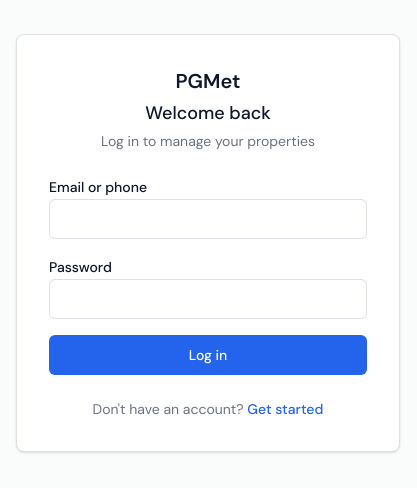
LoginPage › shows an error message on invalid credentials
Type "owner@example.com" into the field labelled "Email or phone". click: point(208, 219)
box: x1=49 y1=199 x2=367 y2=239
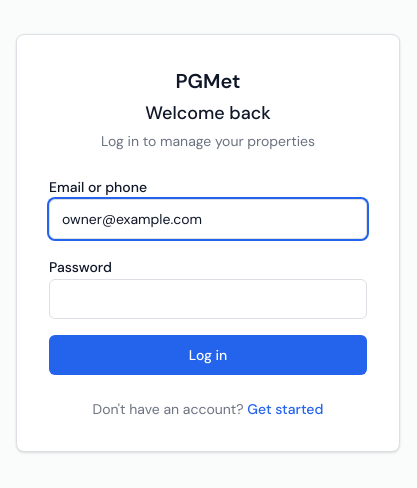
Type "wrong-password" into the password field labelled "Password". click: point(208, 299)
box: x1=49 y1=279 x2=367 y2=319
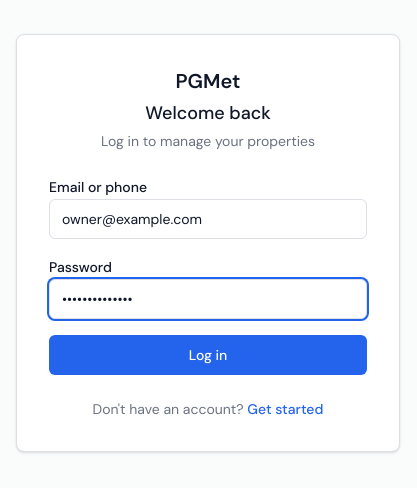
Click the button "Log in". click: point(208, 355)
box: x1=49 y1=335 x2=367 y2=375
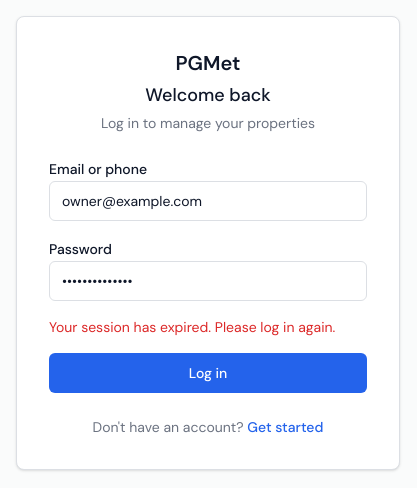
Expected: the message reads "Your session has expired. Please log in again.", x1=49 y1=318 x2=335 y2=336
